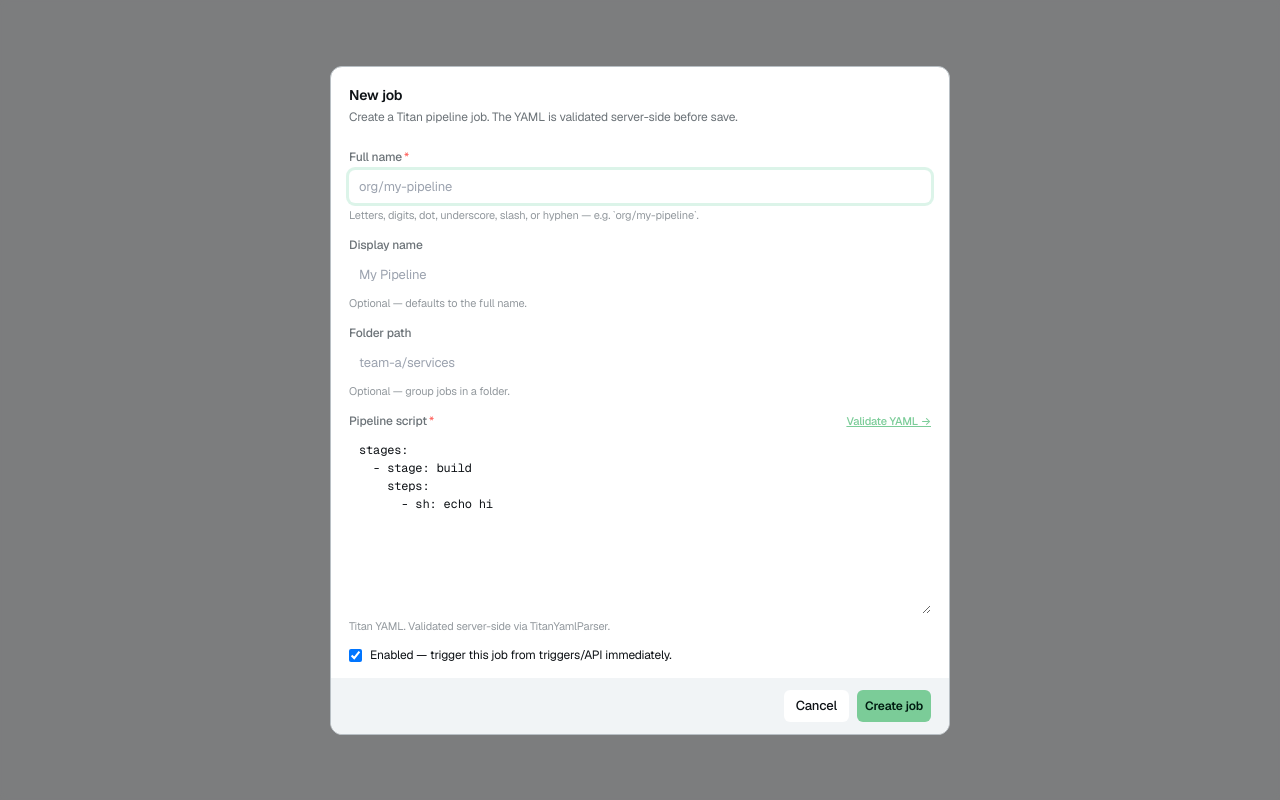
Test: NewJobDialog › on 409, renders "Job name already taken" inline under fullName
Type "org/sample" into the field with test id "new-job-fullname".
click(640, 186); type("org/sample")  # box x1=349 y1=170 x2=931 y2=203
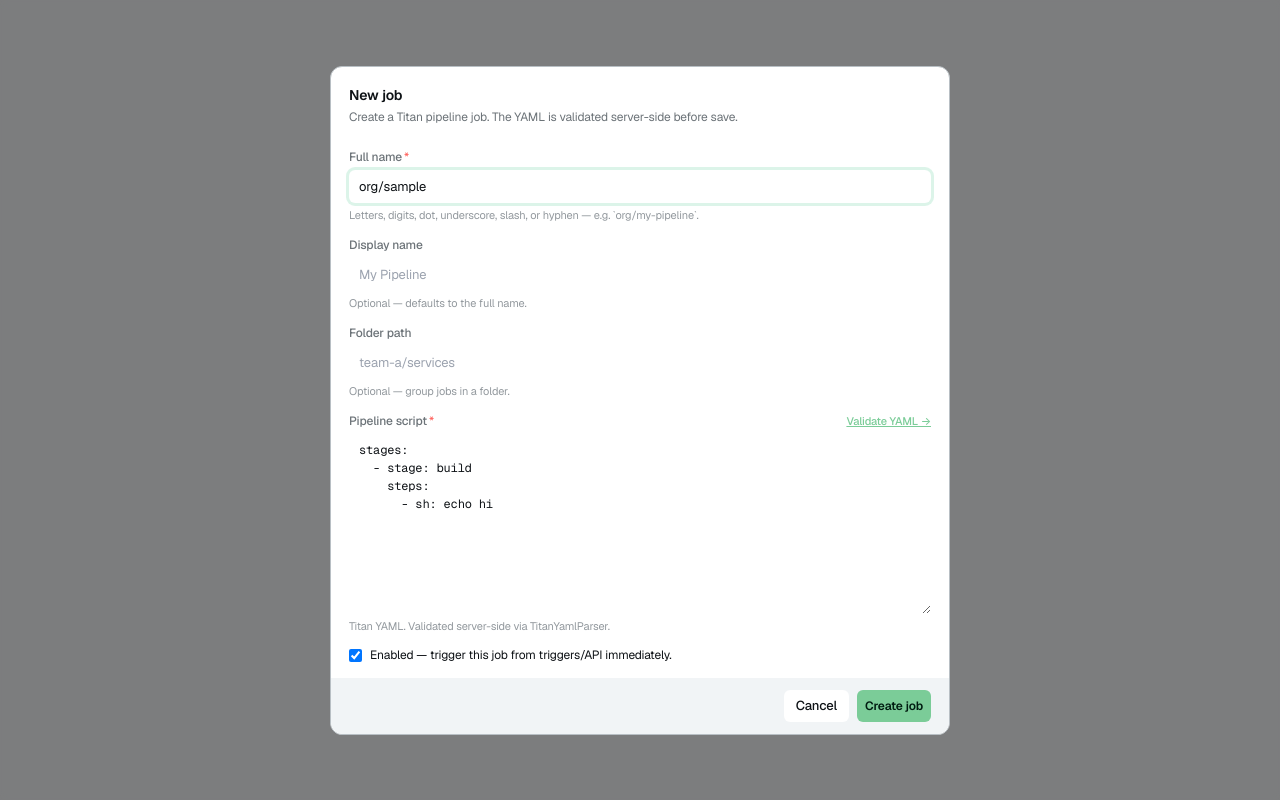
Click the button with test id "new-job-submit".
click(894, 706)  # box x1=857 y1=690 x2=931 y2=722
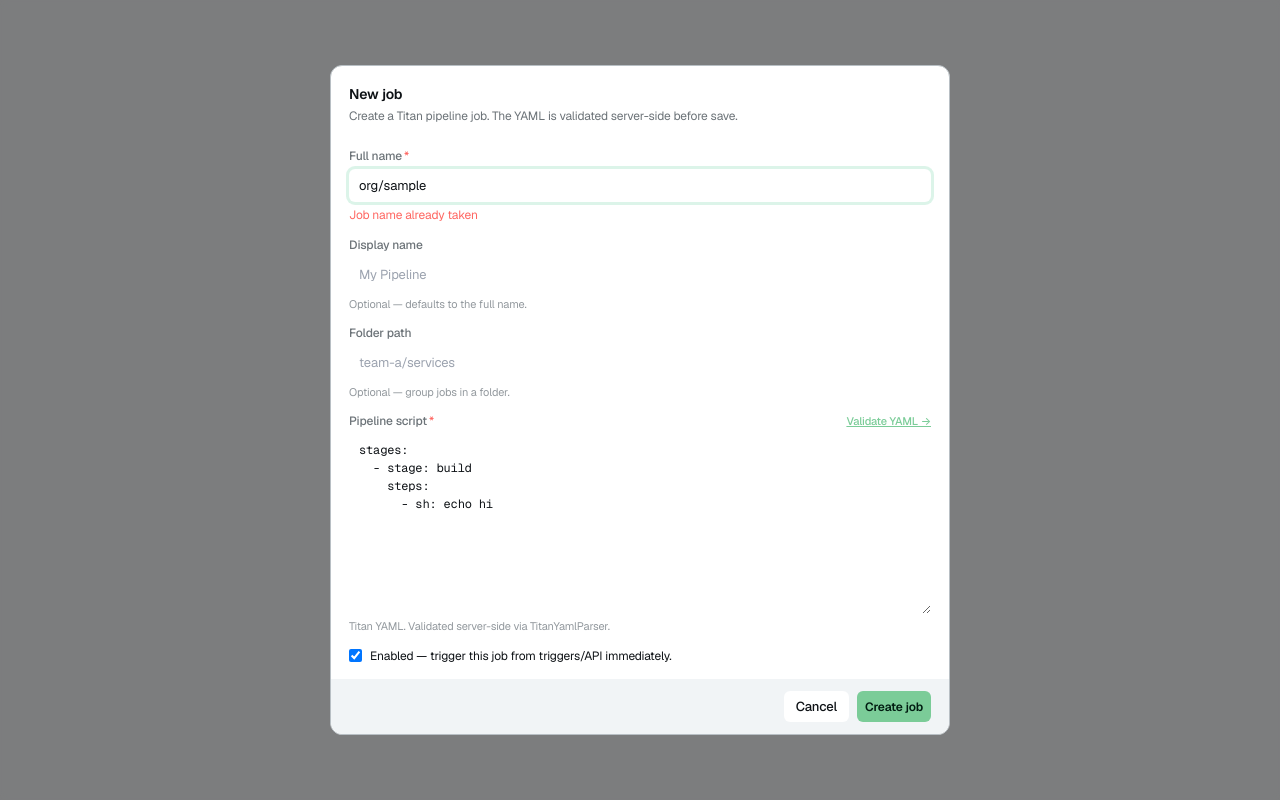
Expected: the message with test id "new-job-name-error" shows "already taken", x1=349 y1=207 x2=478 y2=223
